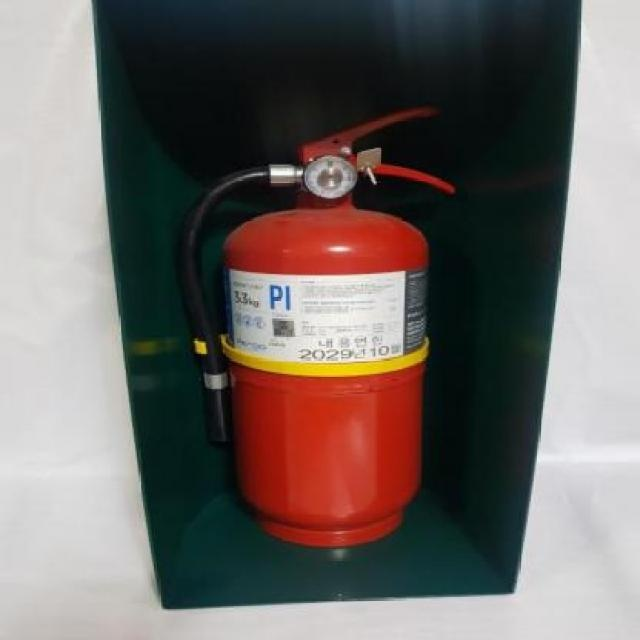fire extinguisher: (170, 107, 456, 547)
